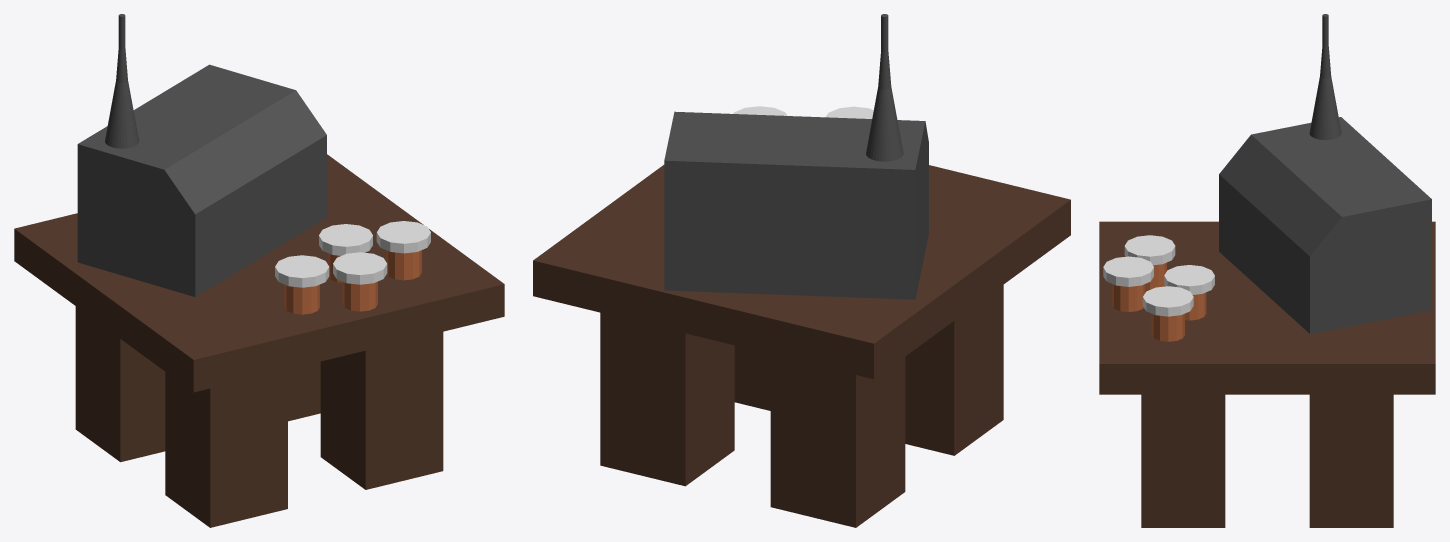
The model's file is BedsideTable.fbx.
The picture shows the model from 3 angles, left to right: view 1: azimuth 30°, elevation 25°; view 2: azimuth 150°, elevation 25°; view 3: azimuth 270°, elevation 25°; orthographic projection. The views are drawn at different scales.
Parts seen in each view (by area): view 1: Table, SAM, Tablets; view 2: Table, SAM, Tablets; view 3: Table, SAM, Tablets.
Boxes of the visible parts, <box> form: Table: <box>14,154,504,527</box>; SAM: <box>77,14,326,296</box>; Tablets: <box>275,221,430,314</box>; Table: <box>533,165,1070,527</box>; SAM: <box>664,14,928,299</box>; Tablets: <box>733,106,873,118</box>; Table: <box>1099,221,1435,527</box>; SAM: <box>1219,14,1431,333</box>; Tablets: <box>1103,235,1214,341</box>.
Bounding box in the file's own units: 200 × 269 × 200.
